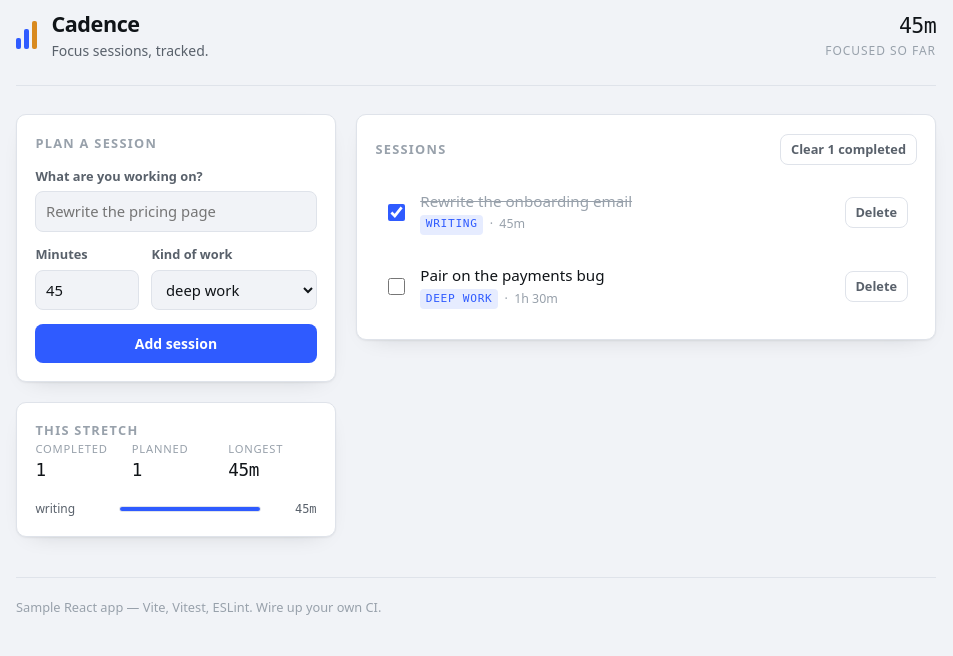
Test case: App › shows an error instead of adding an unnamed session
This screenshot has width=953, height=656.
Click the button "Add session" at (176, 343), box [35,324,317,363]
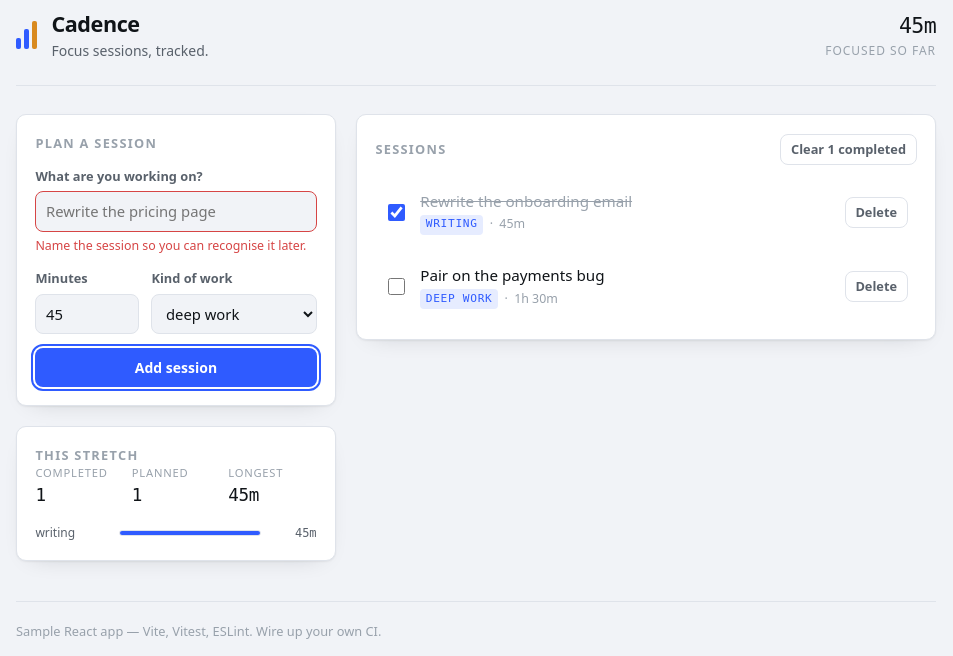
Result: the message shows "Name the session" at [35,237,306,254]
